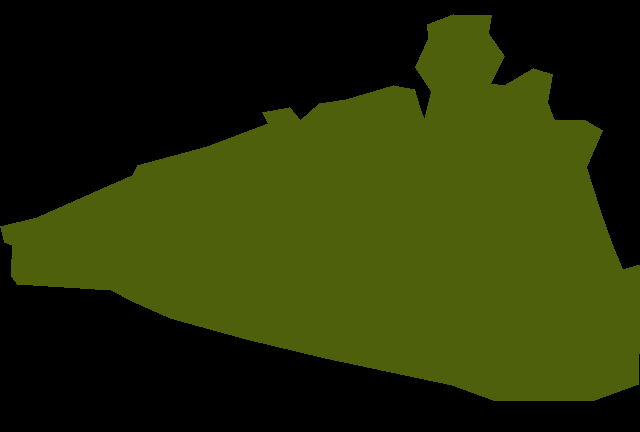Train: (0, 14, 640, 400)
